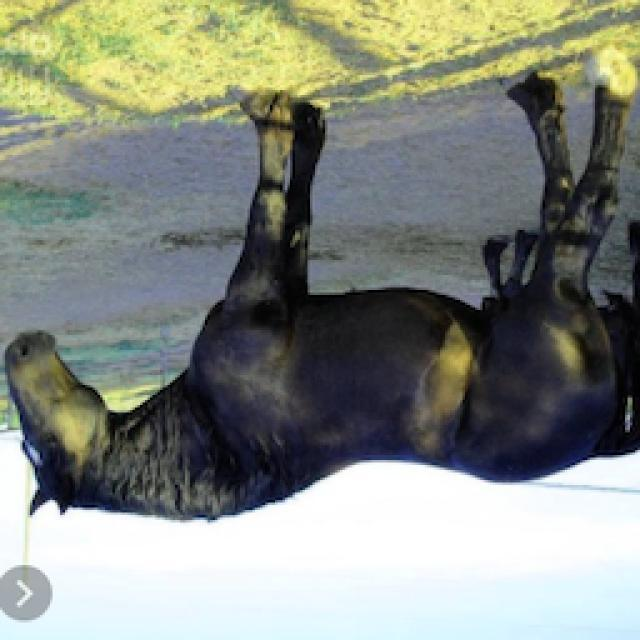Horse: (2, 42, 640, 532)
